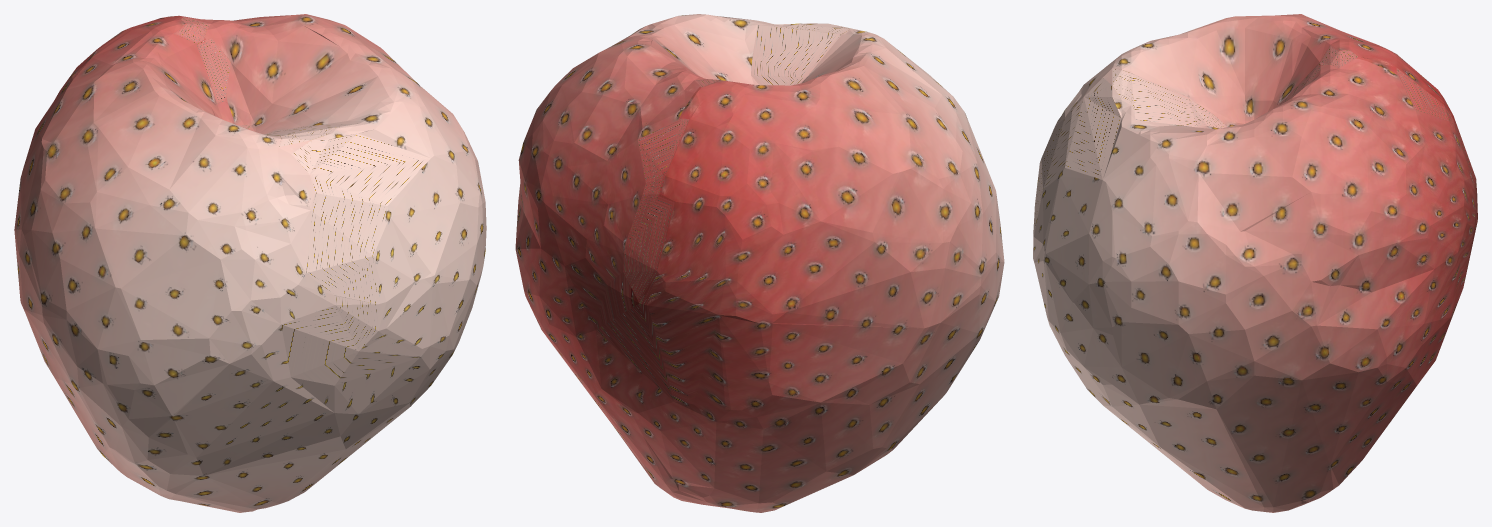
3 renders of one model, left to right at view 1: azimuth 30°, elevation 25°; view 2: azimuth 150°, elevation 25°; view 3: azimuth 270°, elevation 25°, orthographic. The views are drawn at different scales.
Parts seen in each view (by area): view 1: _000_Meshed; view 2: _000_Meshed; view 3: _000_Meshed.
Part boxes in pixels (bbox=[...]): _000_Meshed: bbox=[14, 14, 486, 512]; _000_Meshed: bbox=[515, 14, 1004, 512]; _000_Meshed: bbox=[1033, 14, 1477, 512].
Bounding box in the file's own units: 0.1127 × 0.1062 × 0.1159.
1 material, 1 textured.
